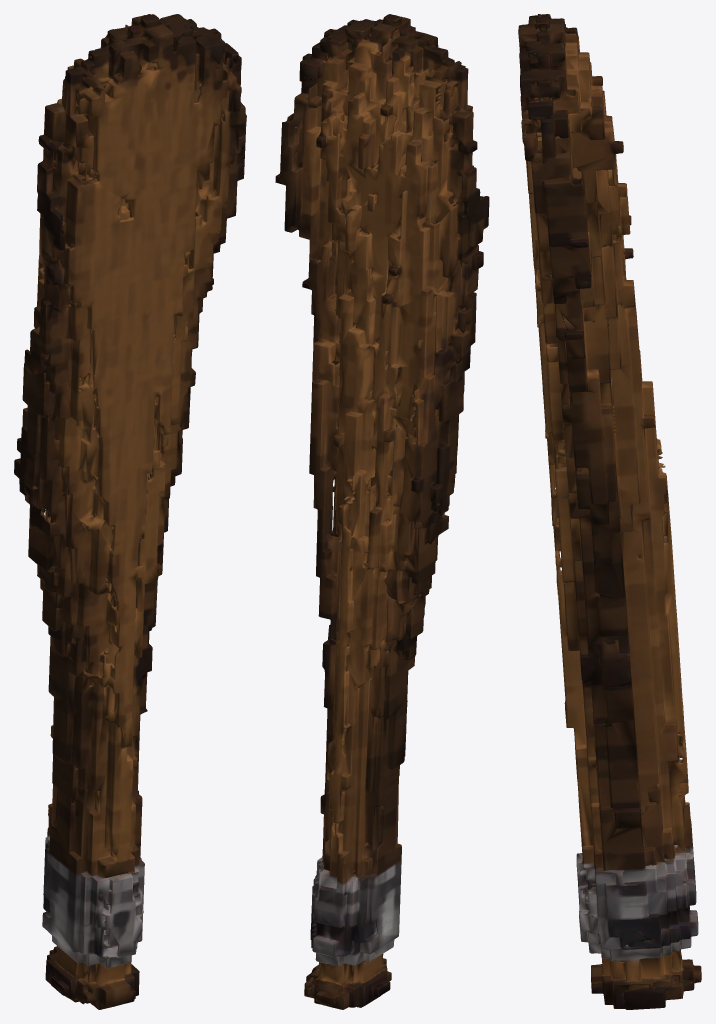
The model's file is Common.glb.
3 views of the same model, side by side, from view 1: azimuth 30°, elevation 25°; view 2: azimuth 150°, elevation 25°; view 3: azimuth 270°, elevation 25° (orthographic). The views are drawn at different scales.
Parts seen in each view (by area): view 1: world; view 2: world; view 3: world.
Part boxes in pixels (x1,y1,x2,y2): world: (14, 14, 246, 1009); world: (275, 14, 489, 1009); world: (518, 14, 701, 1009).
Size of the model in its own units: 0.2079 by 1 by 0.1703.
Materials: 1 (1 with a texture image).
